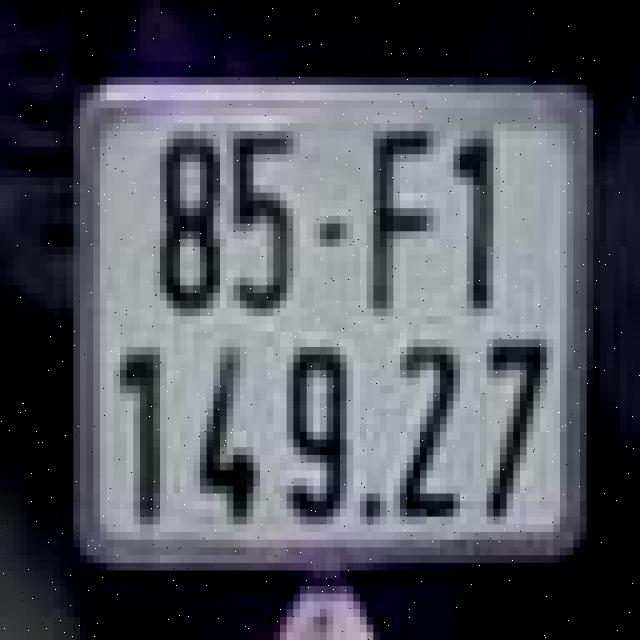1: (447, 112, 513, 320), (110, 340, 170, 548)
2: (366, 324, 466, 532)
4: (190, 339, 263, 532)
5: (227, 108, 313, 332)
7: (480, 328, 553, 528)
8: (157, 112, 230, 320)
9: (274, 324, 354, 524)
F: (353, 120, 440, 320)
